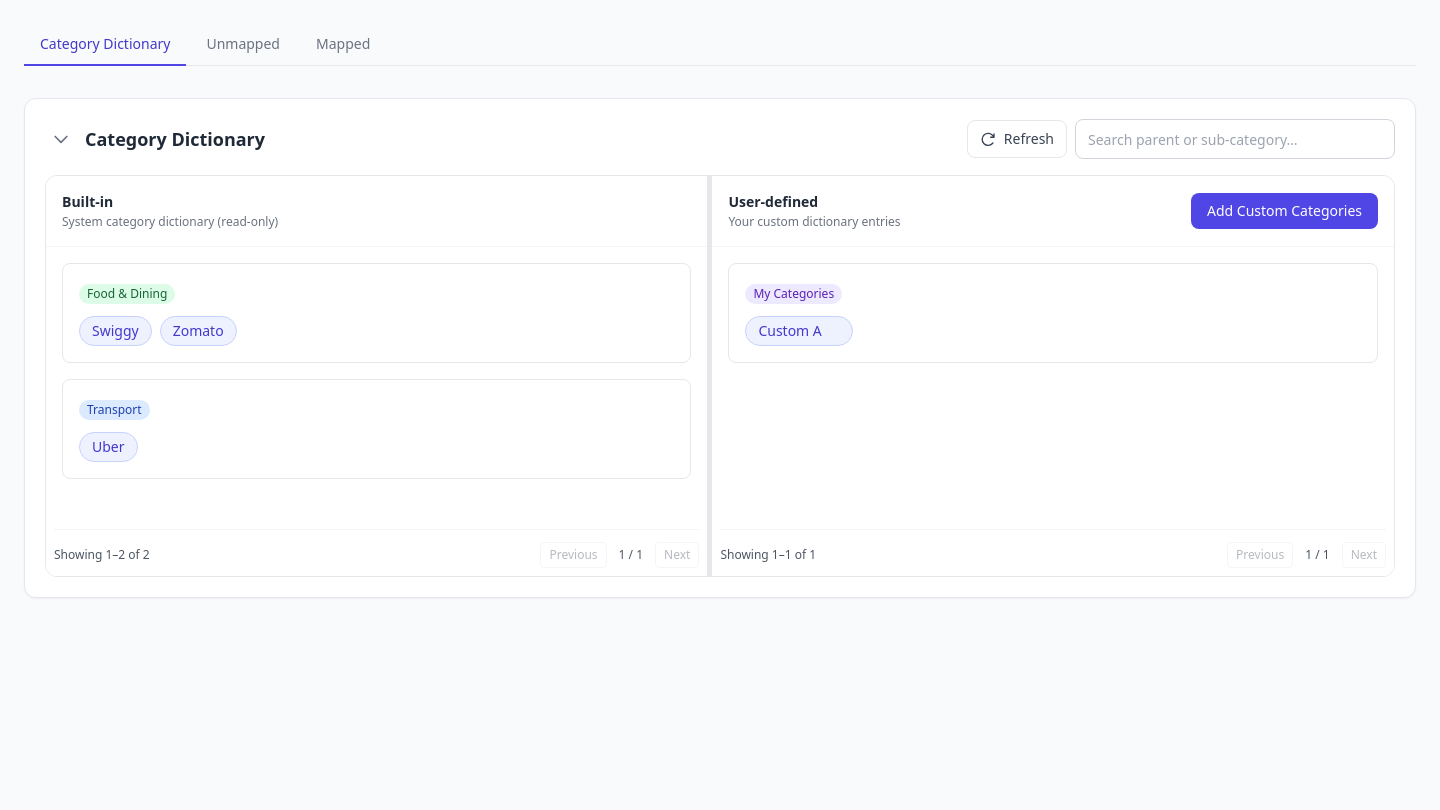
Test case: Categories page — Add sub-category form validation › shows validation error when only parent is filled
Check: the heading "Category Dictionary" is shown, box [85,125,265,153]
Click the button "Add Custom Categories" at (1284, 211), box [1191,193,1378,229]
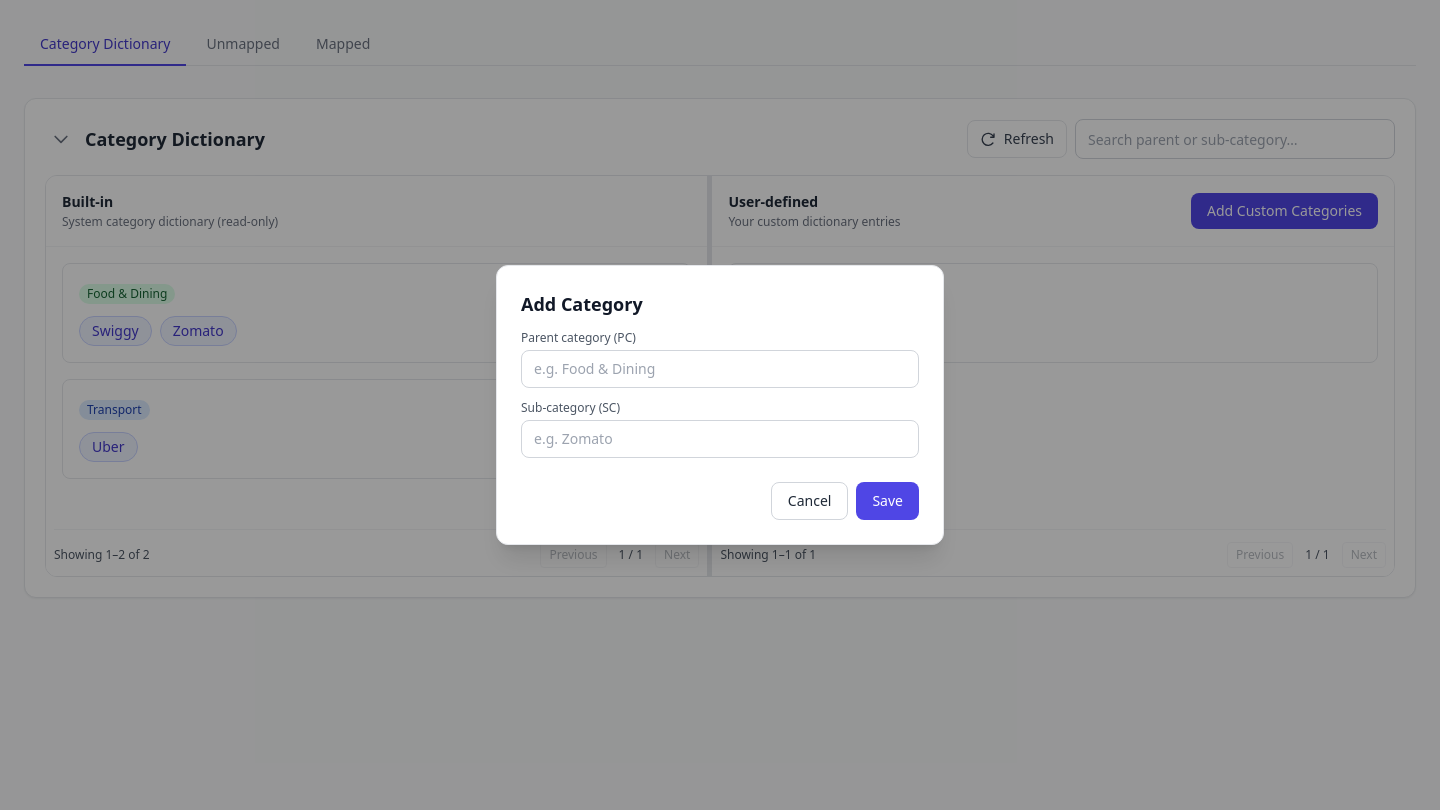
Type "Food & Dining" into the field with placeholder "e.g. Food & Dining" at (720, 369), box [521,350,919,388]
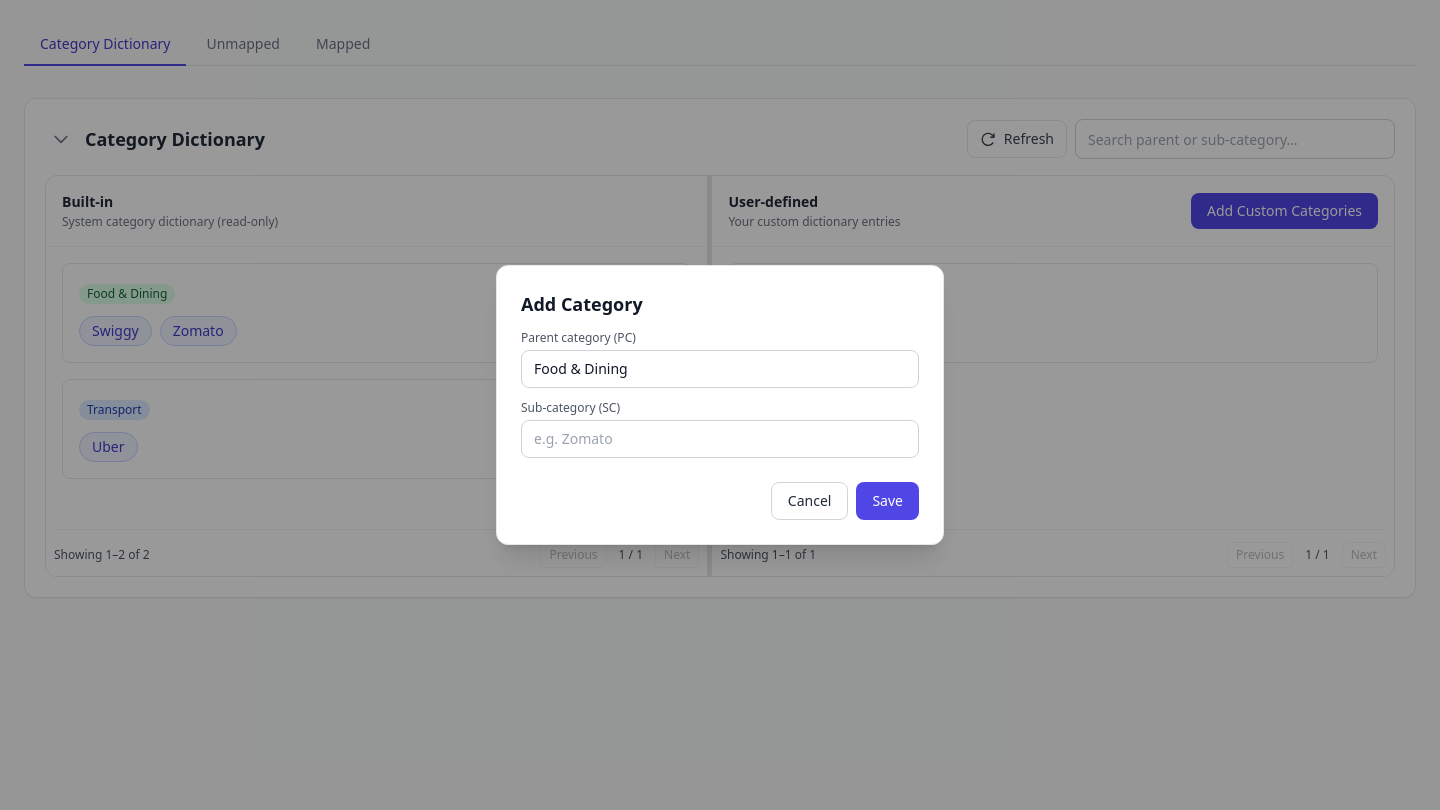
Click the button "Save" at (888, 501), box [856,482,919,520]
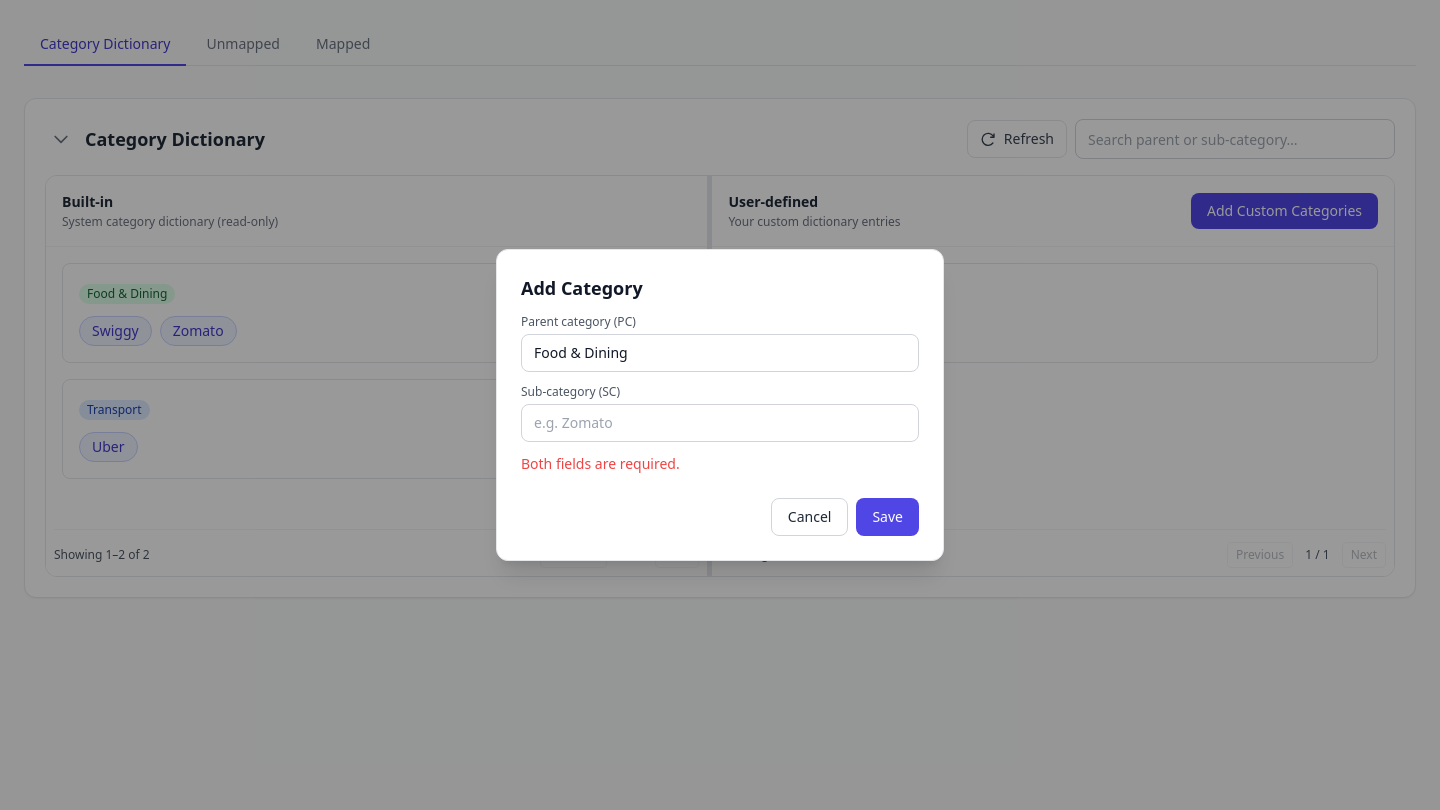
Check: the text "Both fields are required." is shown, box [521,454,680,473]
